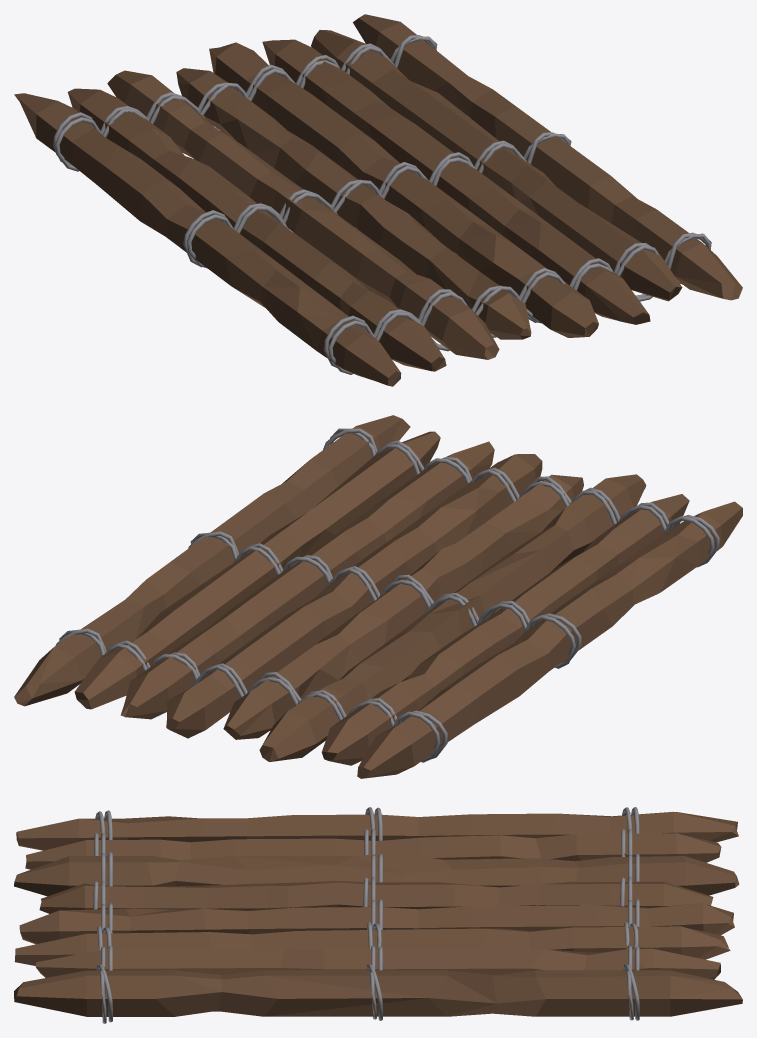
Rendered from Raft.fbx.
3 views of the same model, one above another, from view 1: azimuth 30°, elevation 25°; view 2: azimuth 150°, elevation 25°; view 3: azimuth 270°, elevation 25° (orthographic). The views are drawn at different scales.
Visible parts, largest first — view 1: Raft; view 2: Raft; view 3: Raft.
Part boxes in pixels (box(x1,y1,x2,y2)): Raft: box(14, 14, 742, 386); Raft: box(14, 415, 742, 778); Raft: box(14, 807, 742, 1023).
Bounding box in the file's own units: 197 × 28.6 × 330.
